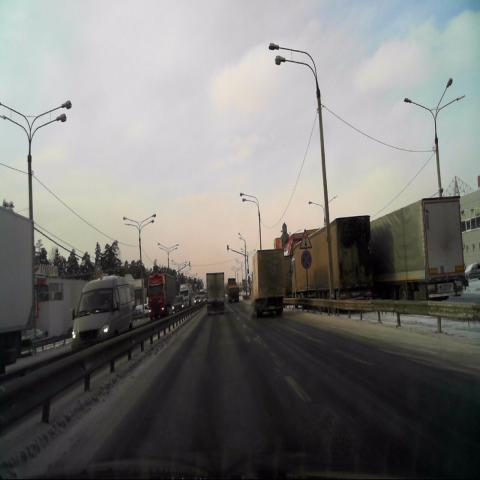1_8: (300, 229, 312, 249)
